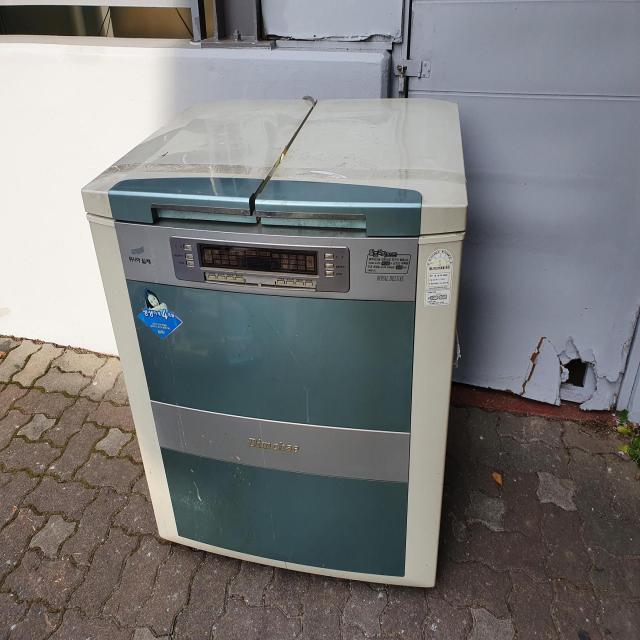refrigerator: (80, 93, 471, 591)
